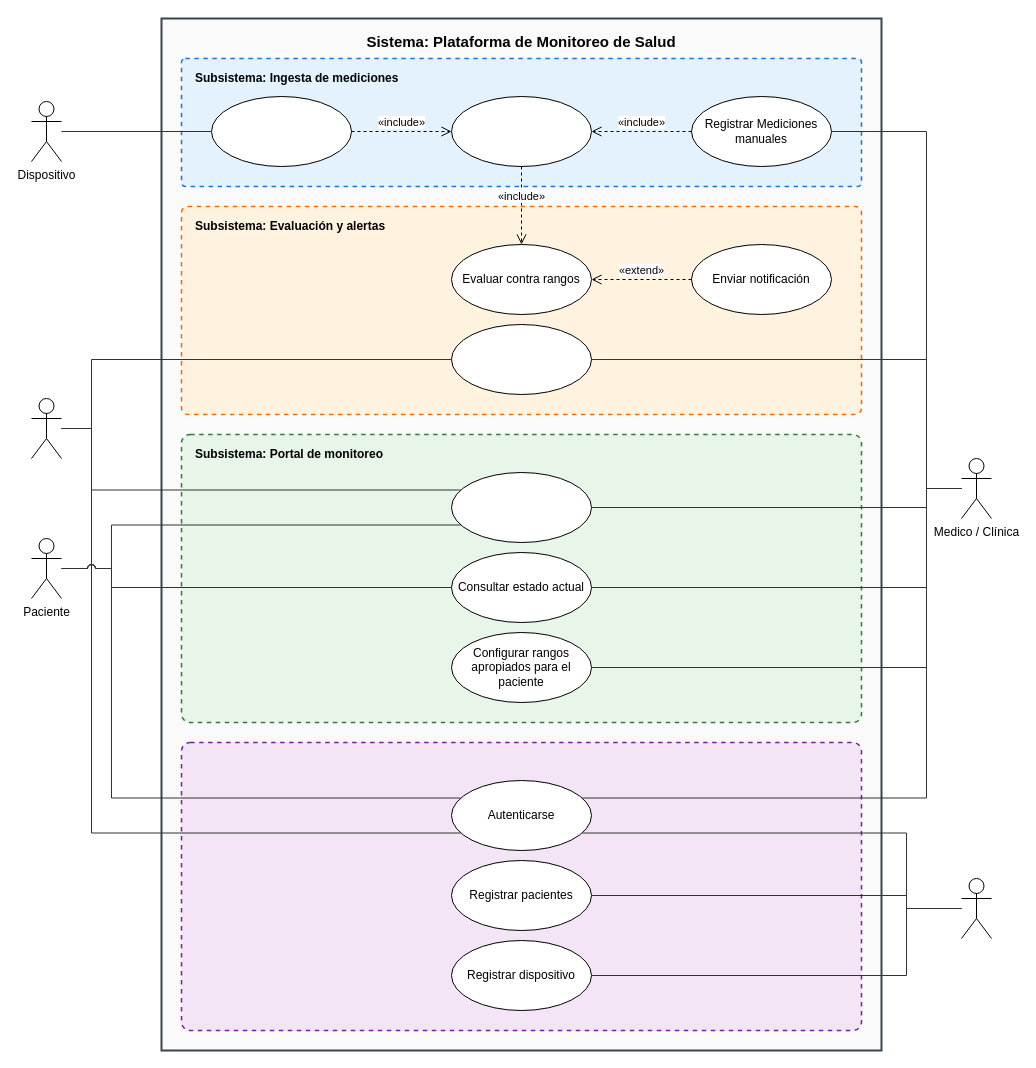
Some shapes in this 1036 by 1068 pixel diagram are drawn without their labels. Here are the shapes that lost their labels. From the top down, the box of each, then its label:
(210, 96, 352, 166): Enviar Medición Sp02
(450, 96, 592, 166): Validar Medición
(450, 324, 592, 394): Recibir alertas
(30, 398, 62, 458): Familiar
(450, 472, 592, 542): Consultar Mediciones
(180, 741, 862, 1031): Subsistema: Seguridad y administración
(960, 878, 992, 938): Administrador
